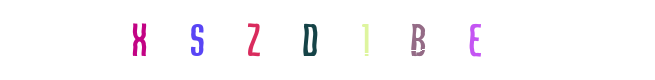1: (288, 0, 368, 80)
B: (356, 0, 436, 80)
D: (282, 0, 362, 80)
E: (361, 0, 441, 80)
S: (157, 0, 237, 80)
X: (143, 0, 223, 80)
Z: (270, 0, 350, 80)
